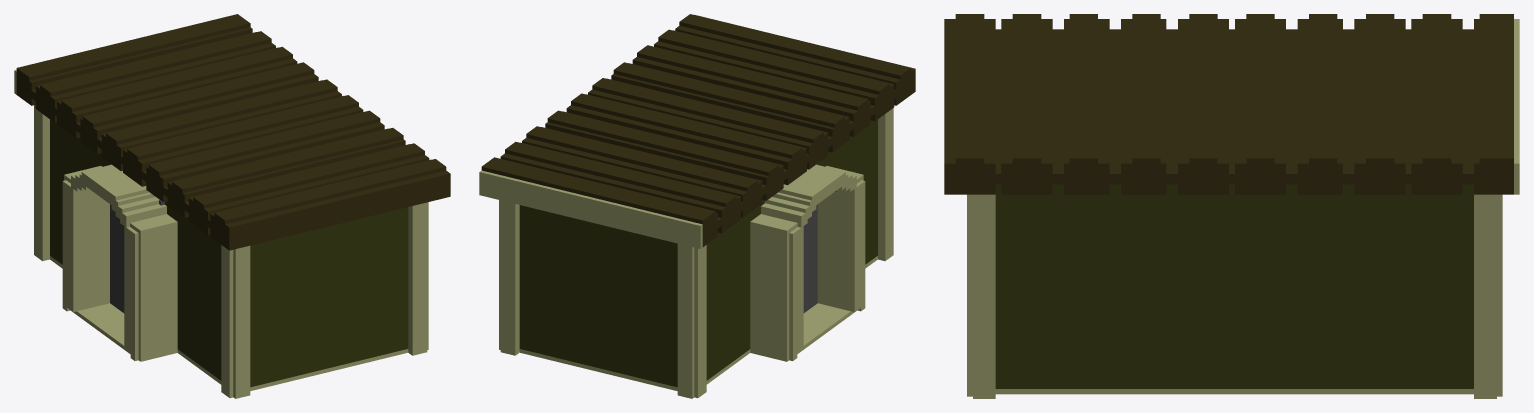
File: HouseNormall-0.obj
3 views of the same model, side by side, from view 1: azimuth 30°, elevation 25°; view 2: azimuth 150°, elevation 25°; view 3: azimuth 270°, elevation 25° (orthographic). The views are drawn at different scales.
Bounding box in the file's own units: 6.6 × 4.8 × 10.1.
